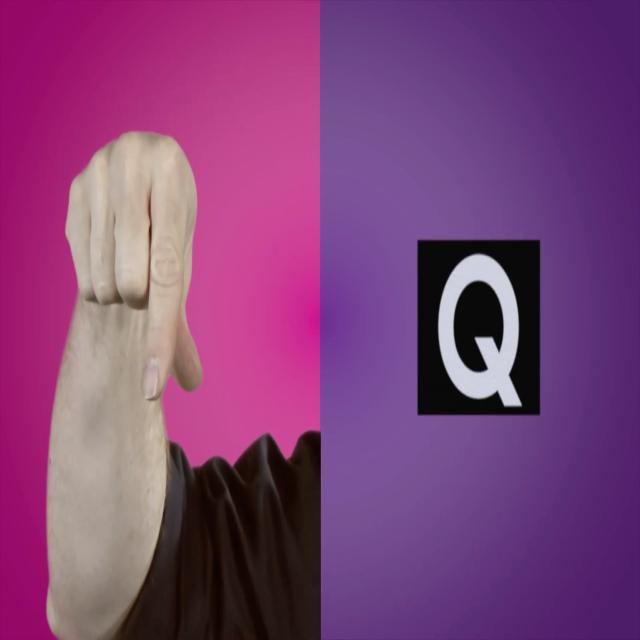Q: (42, 71, 230, 640)
